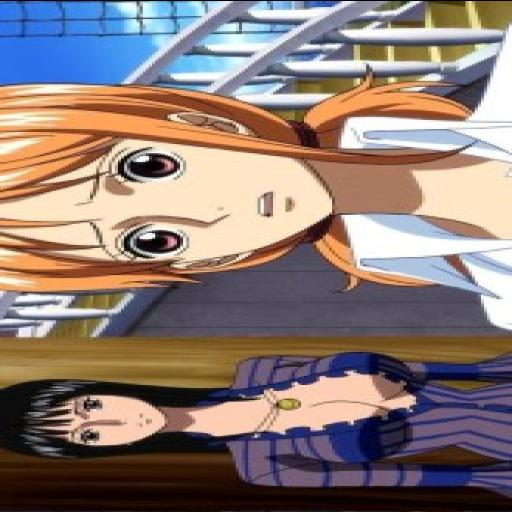Nami: (0, 81, 357, 292)
NicoRobin: (0, 379, 197, 463)
